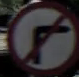Don't turn right: (11, 5, 69, 69)
